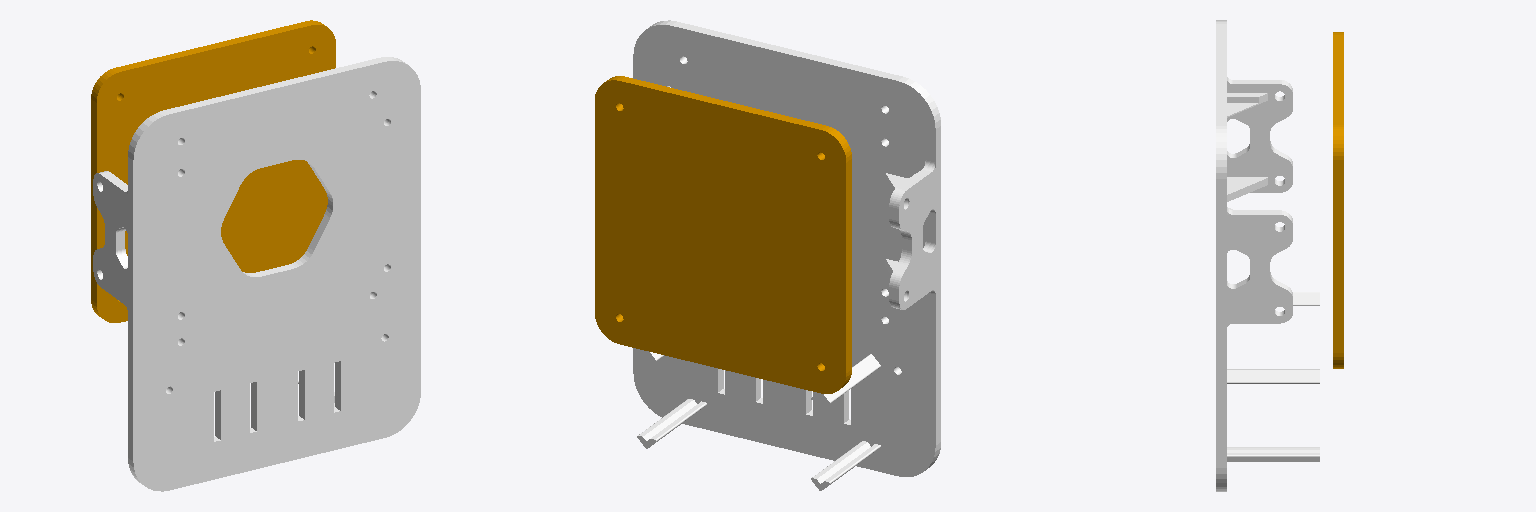
The robot description file, URDF, robot "robot_name":
<?xml version="1.0"?>
<robot name="robot_name">
    <!-- set color -->
    <material name="white">
        <color rgba="1.0 1.0 1.0 1.0"/>
    </material>

    <!-- model description -->
    <link name="base_link">
        <visual>
            <origin xyz="0.0 0.0 0.0" rpy="0.0 0.0 0.0"/>
            <geometry>
                <mesh filename="package://simulation/meshes/bottom-1.STL" scale="0.001 0.001 0.001"/>
            </geometry>
            <material name="white"/>
        </visual>

        <visual>
            <origin xyz="0.0 0.0 0.0" rpy="0.0 0.0 0.0"/>
            <geometry>
                <mesh filename="package://simulation/meshes/under-bottom-1.STL" scale="0.001 0.001 0.001"/>
            </geometry>
        </visual>
    </link>
</robot>

--- What the picture shows (computed from the rendered views, not written in the file) ---
The picture shows the robot from 3 angles, left to right: view 1: azimuth 30°, elevation 25°; view 2: azimuth 150°, elevation 25°; view 3: azimuth 270°, elevation 25°; orthographic projection.
Model robot_name with 1 links and 0 joints (none), rooted at base_link, posed all joints at 0.
Links seen in each view (by area): view 1: base_link; view 2: base_link; view 3: base_link.
Link boxes in pixels (x1,y1,x2,y2): base_link: (91,20,420,491); base_link: (595,20,940,490); base_link: (1216,20,1343,491).
Bounding box of the posed robot: 0.12 × 0.048 × 0.15 m (x, y, z).
2 mesh visuals loaded from 2 distinct referenced files (2 binary STL).